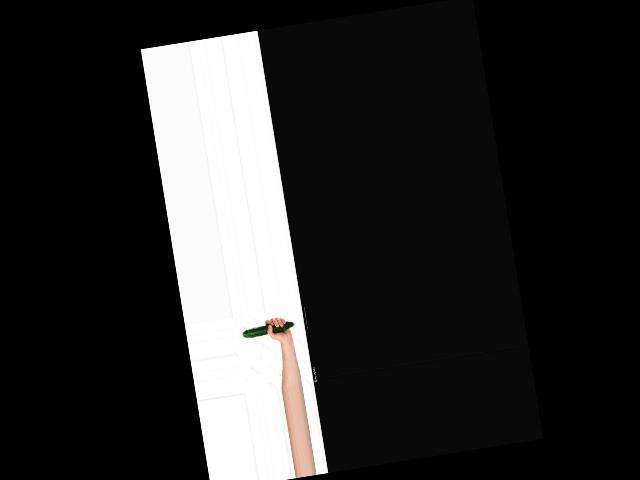cucumber: (242, 319, 295, 338)
